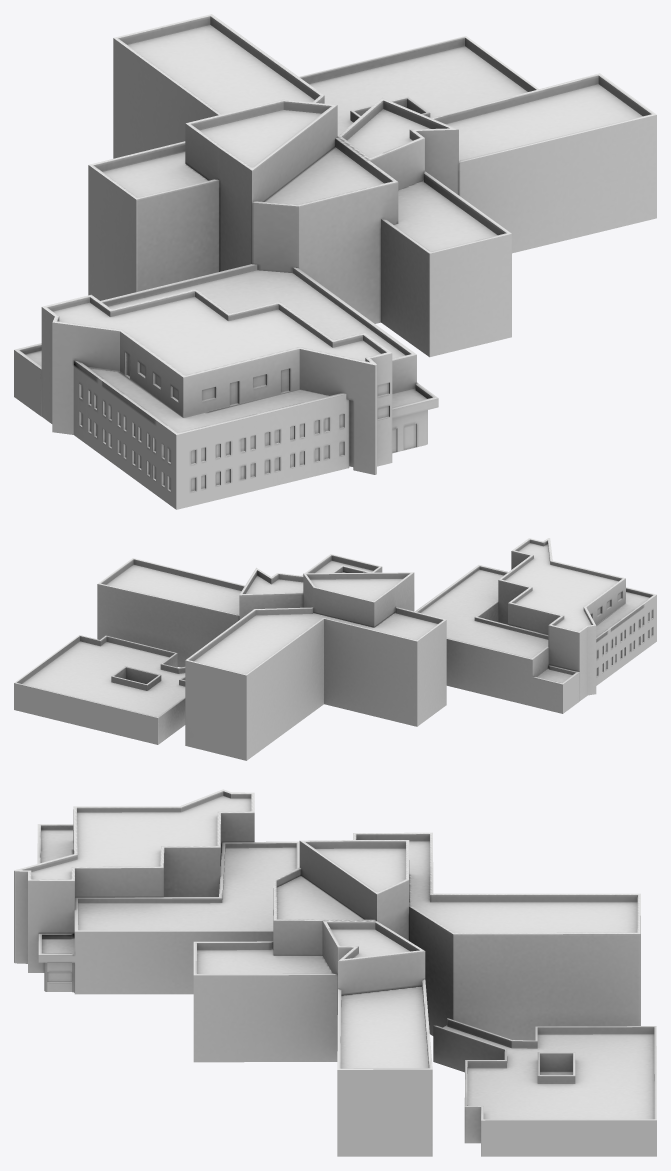
File: kavala_building15.glb
3 views of the same model, one above another, from view 1: azimuth 30°, elevation 25°; view 2: azimuth 150°, elevation 25°; view 3: azimuth 270°, elevation 25° (orthographic). The views are drawn at different scales.
Visible parts, largest first — view 1: building_v007; view 2: building_v007; view 3: building_v007.
Boxes of the visible parts, box(x1,y1,x2,y2) form: building_v007: box(14, 14, 656, 509); building_v007: box(14, 538, 656, 760); building_v007: box(14, 789, 656, 1156).
Size of the model in its own units: 8.16 by 1.95 by 8.05.
1 material, 1 textured.
